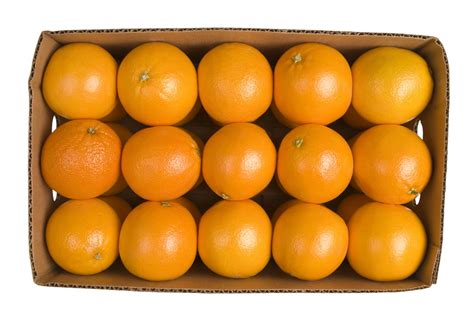orange: (348, 45, 436, 128), (35, 118, 122, 201), (351, 122, 437, 205), (116, 41, 198, 126), (192, 42, 274, 126), (276, 121, 354, 207), (117, 202, 202, 279), (42, 198, 124, 276), (200, 121, 277, 204), (348, 203, 432, 279), (120, 127, 205, 202), (196, 199, 276, 278), (41, 41, 121, 119), (274, 45, 351, 126), (273, 204, 349, 281)
